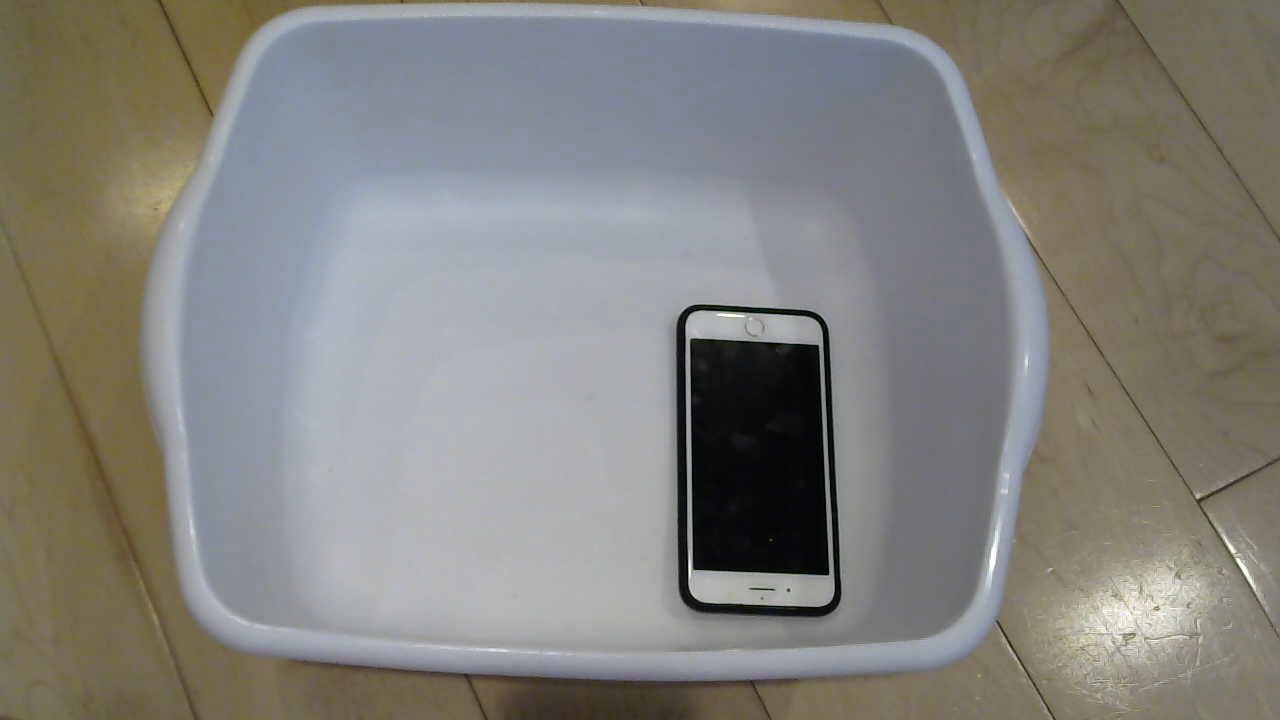phone: (669, 307, 854, 628)
